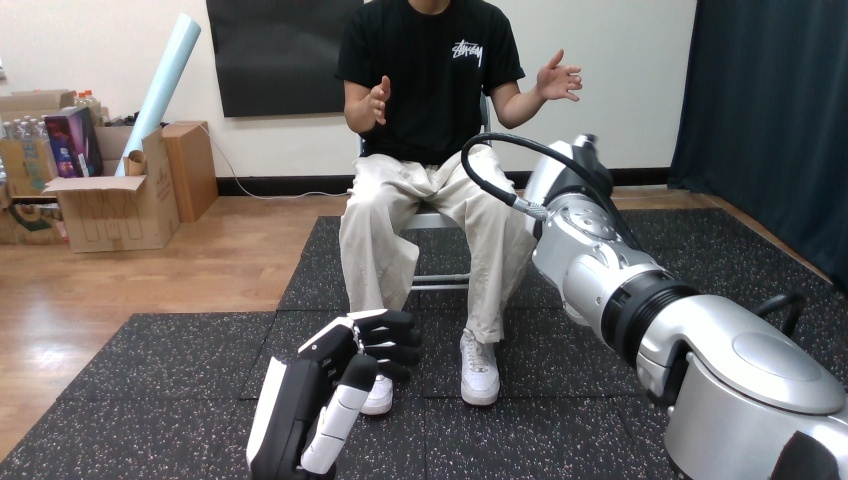left robot hand: (461, 133, 847, 478), (246, 309, 420, 479), (534, 49, 581, 101)
